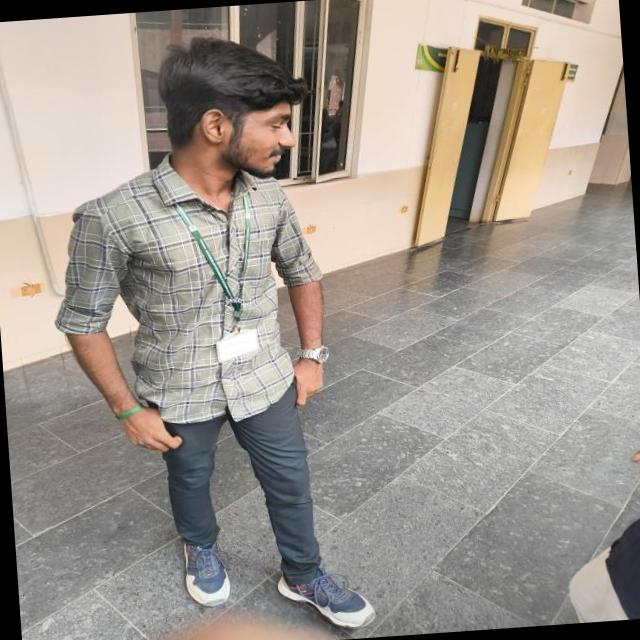id_card: (170, 162, 266, 368)
